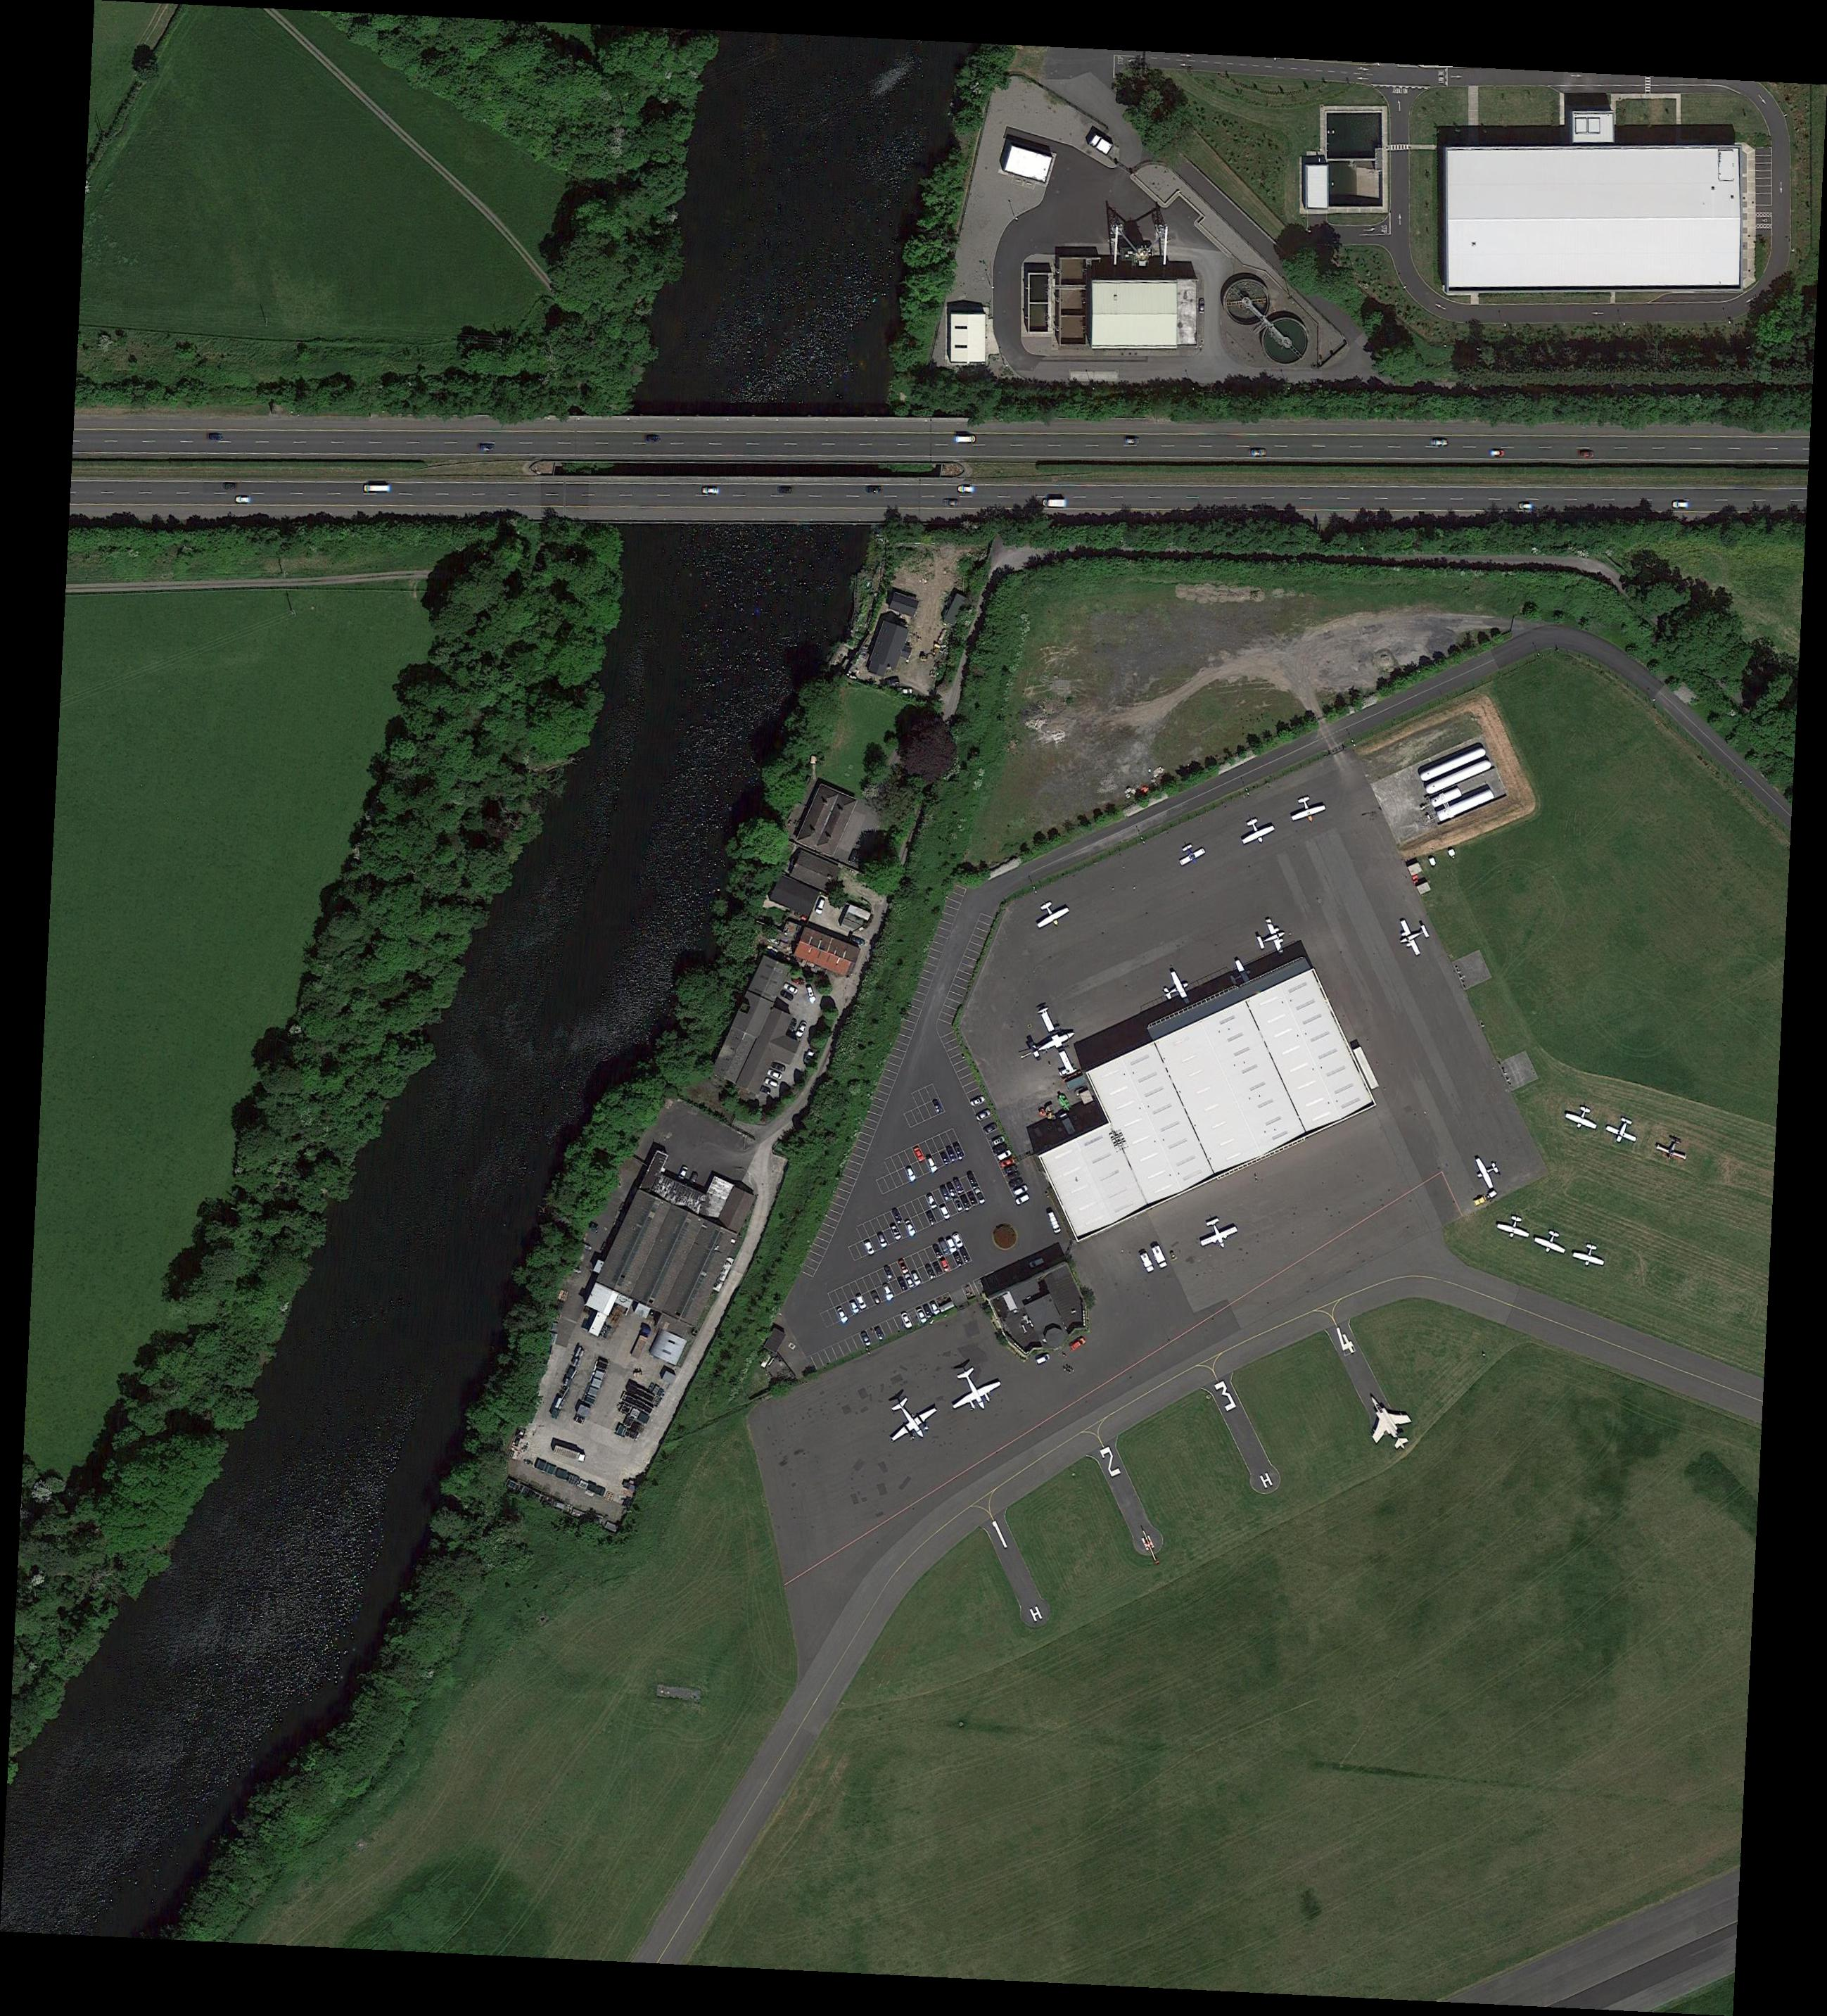plane: (1006, 999, 1090, 1092), (872, 1380, 948, 1456), (1351, 1382, 1423, 1461), (935, 1354, 1011, 1422), (1392, 911, 1437, 959), (1158, 966, 1199, 1013), (1251, 915, 1292, 962), (1193, 1212, 1241, 1252), (1030, 894, 1074, 936), (1234, 811, 1278, 850), (1602, 1113, 1643, 1152), (1494, 1208, 1534, 1245), (1286, 792, 1329, 827), (1562, 1099, 1602, 1134), (1655, 1131, 1692, 1168), (1532, 1224, 1571, 1259), (1571, 1236, 1609, 1271), (1471, 1154, 1504, 1192), (1223, 955, 1253, 990), (1174, 839, 1207, 868)
